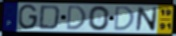D: (113, 5, 137, 32), (38, 4, 62, 30), (65, 4, 88, 31)
G: (17, 4, 39, 31)
N: (135, 6, 159, 32)
O: (87, 5, 111, 32)
